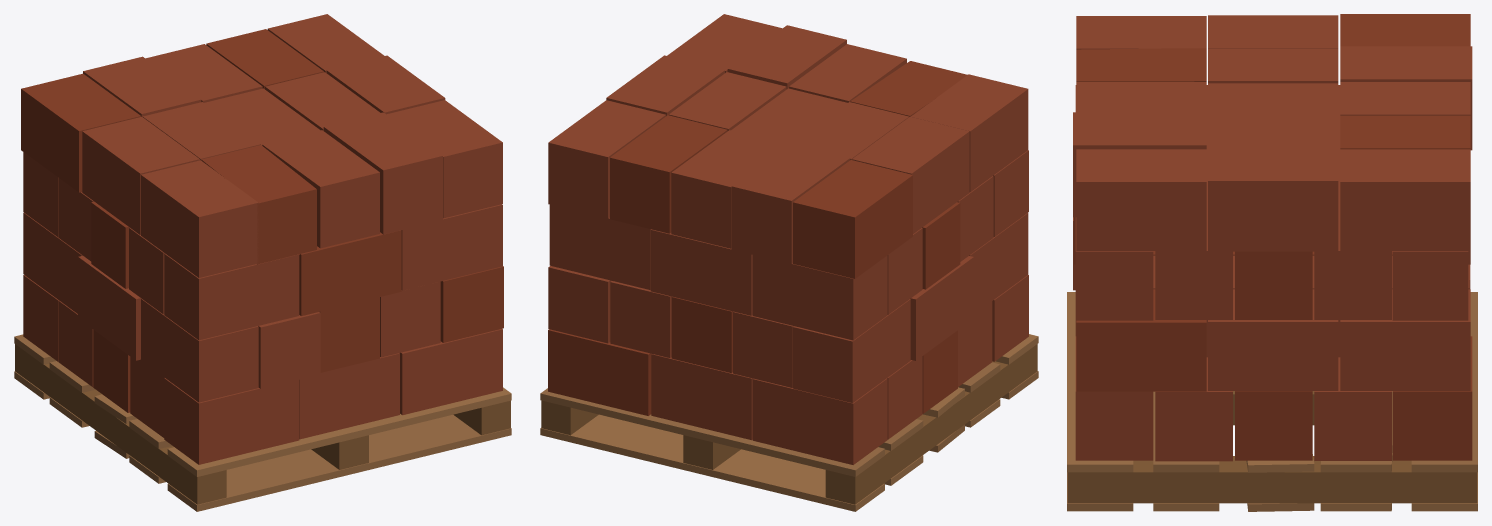
The model's file is SM_IndustrialProps_Construction_05.fbx.
3 views of the same model, side by side, from view 1: azimuth 30°, elevation 25°; view 2: azimuth 150°, elevation 25°; view 3: azimuth 270°, elevation 25° (orthographic). The views are drawn at different scales.
Visible parts, largest first — view 1: SM_IndustrialProps_Construction_05; view 2: SM_IndustrialProps_Construction_05; view 3: SM_IndustrialProps_Construction_05.
Boxes of the visible parts, bbox=[...] form: SM_IndustrialProps_Construction_05: bbox=[14, 14, 511, 511]; SM_IndustrialProps_Construction_05: bbox=[540, 14, 1038, 511]; SM_IndustrialProps_Construction_05: bbox=[1067, 14, 1477, 511].
Bounding box in the file's own units: 1.25 × 1.11 × 1.25.
